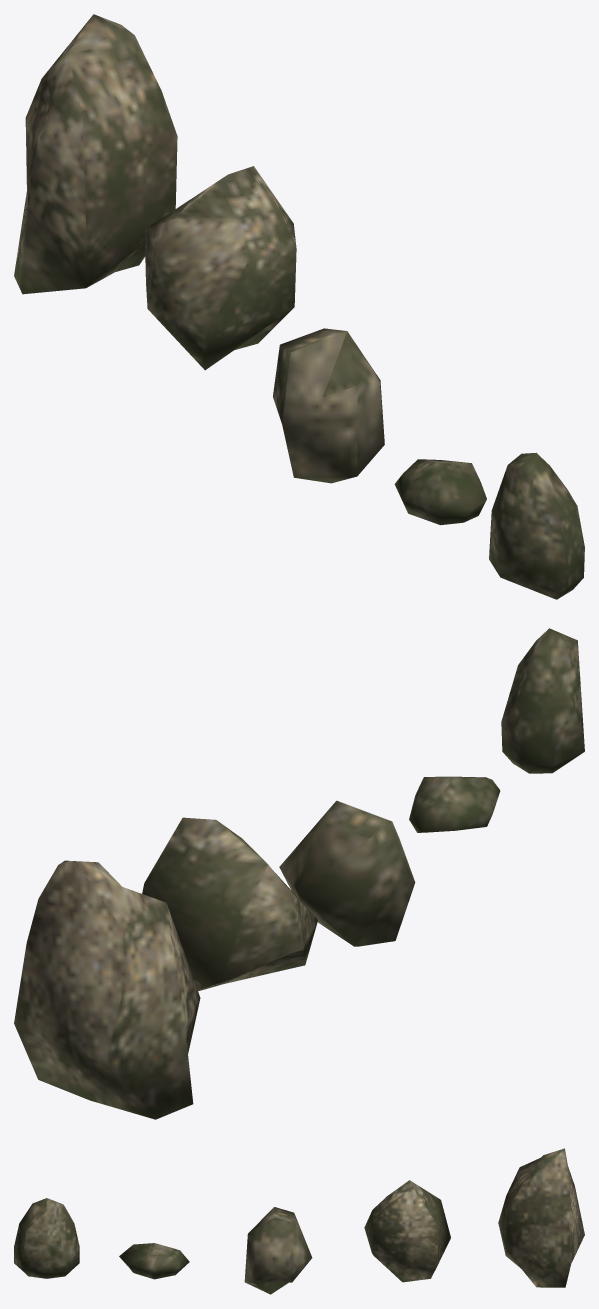
File: stones 1.fbx
The picture shows the model from 3 angles, top to bottom: view 1: azimuth 30°, elevation 25°; view 2: azimuth 150°, elevation 25°; view 3: azimuth 270°, elevation 25°; orthographic projection. The views are drawn at different scales.
Parts seen in each view (by area): view 1: stone_3, STONE_5, STONE_4, STONE_2, stone_1; view 2: stone_3, STONE_5, STONE_4, STONE_2, stone_1; view 3: stone_3, STONE_5, STONE_2, STONE_4, stone_1.
Boxes of the visible parts, x1=… form: stone_3: x1=14, y1=14, x2=177, y2=294; STONE_5: x1=144, y1=166, x2=296, y2=370; STONE_4: x1=273, y1=328, x2=384, y2=483; STONE_2: x1=489, y1=452, x2=584, y2=599; stone_1: x1=394, y1=459, x2=486, y2=525; stone_3: x1=14, y1=860, x2=200, y2=1119; STONE_5: x1=142, y1=817, x2=317, y2=991; STONE_4: x1=279, y1=800, x2=415, y2=946; STONE_2: x1=501, y1=628, x2=584, y2=773; stone_1: x1=409, y1=776, x2=500, y2=832; stone_3: x1=498, y1=1148, x2=584, y2=1287; STONE_5: x1=364, y1=1180, x2=450, y2=1282; STONE_2: x1=14, y1=1198, x2=79, y2=1278; STONE_4: x1=244, y1=1207, x2=312, y2=1294; stone_1: x1=119, y1=1243, x2=189, y2=1279.
Bounding box in the file's own units: 245 × 421 × 1425.
